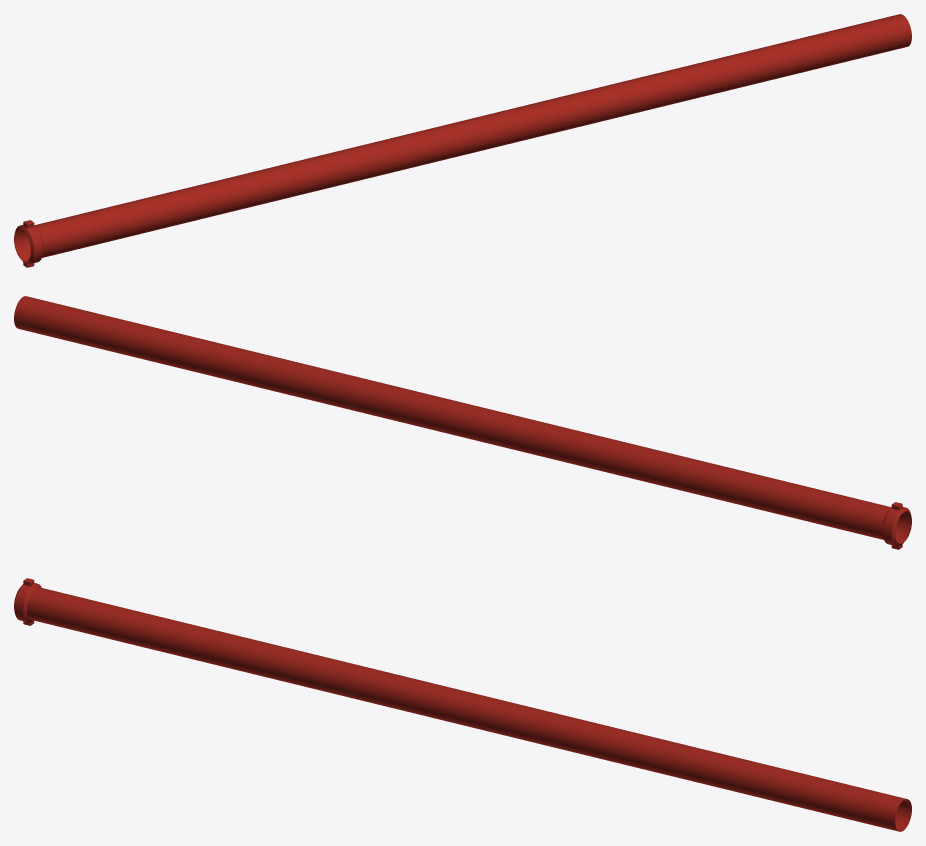
Rendered from Kit_SprinklerMain_3m.fbx.
3 renders of one model, top to bottom at view 1: azimuth 30°, elevation 25°; view 2: azimuth 150°, elevation 25°; view 3: azimuth 330°, elevation 25°, orthographic.
Parts seen in each view (by area): view 1: Kit_SprinklerMain_3m_LOD0; view 2: Kit_SprinklerMain_3m_LOD0; view 3: Kit_SprinklerMain_3m_LOD0.
Part boxes in pixels (x1,y1,x2,y2): Kit_SprinklerMain_3m_LOD0: (14,14,911,267); Kit_SprinklerMain_3m_LOD0: (14,296,911,549); Kit_SprinklerMain_3m_LOD0: (14,578,911,831).
Size of what is drawn, in the model's own units: 3.02 by 0.144 by 0.1184.
